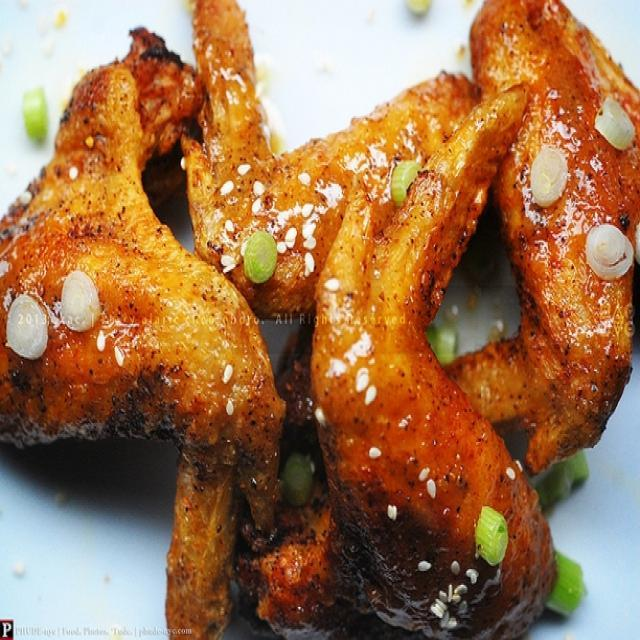Deep fried chicken wing: (7, 3, 627, 601)
